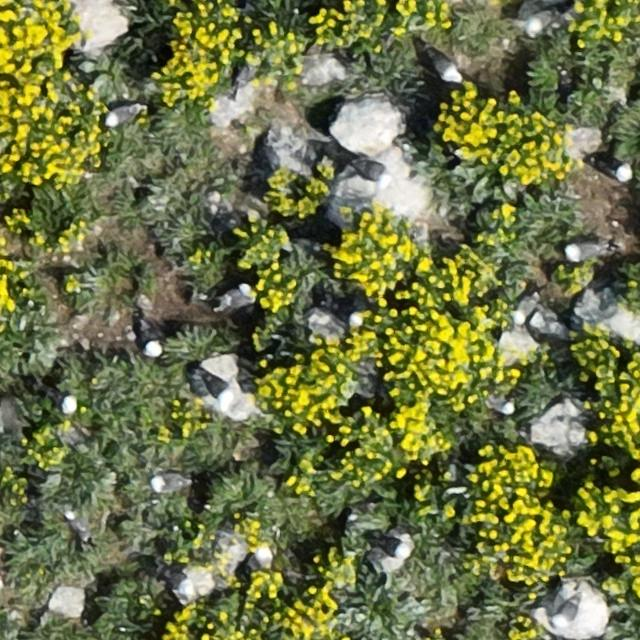umineko: (201, 369, 237, 408), (428, 50, 460, 80), (594, 159, 632, 181), (219, 285, 252, 309), (564, 240, 604, 259), (354, 159, 388, 181), (150, 472, 187, 492), (139, 322, 160, 357), (375, 537, 409, 558), (65, 510, 88, 541), (554, 598, 576, 630), (244, 546, 272, 571), (106, 106, 138, 126), (514, 294, 536, 323), (488, 398, 516, 416)
